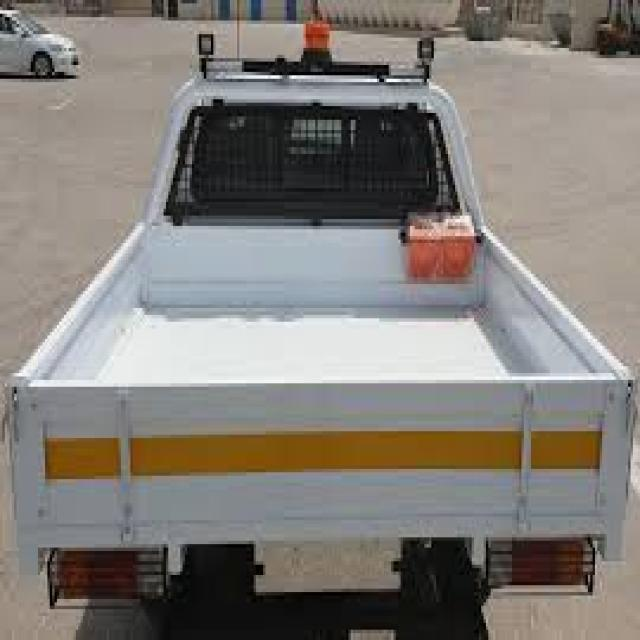light_vehicle: (21, 31, 638, 636)
